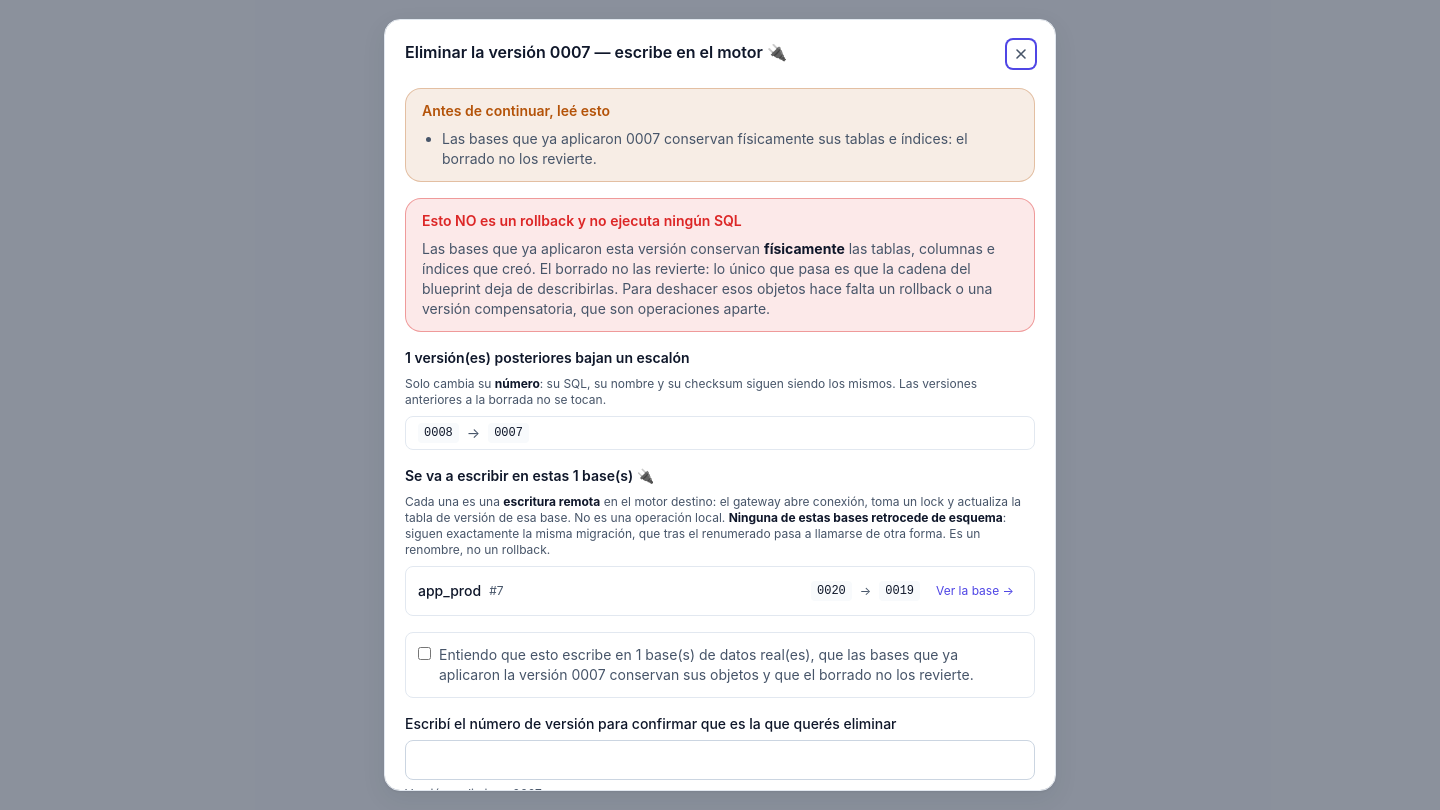
Test case: MigrationDeletePlanDialog › con confirmación exige las TRES condiciones: reconocer, reescribir y token vigente
The image size is (1440, 810).
Click the checkbox at [424, 654], box [418,647,431,660]
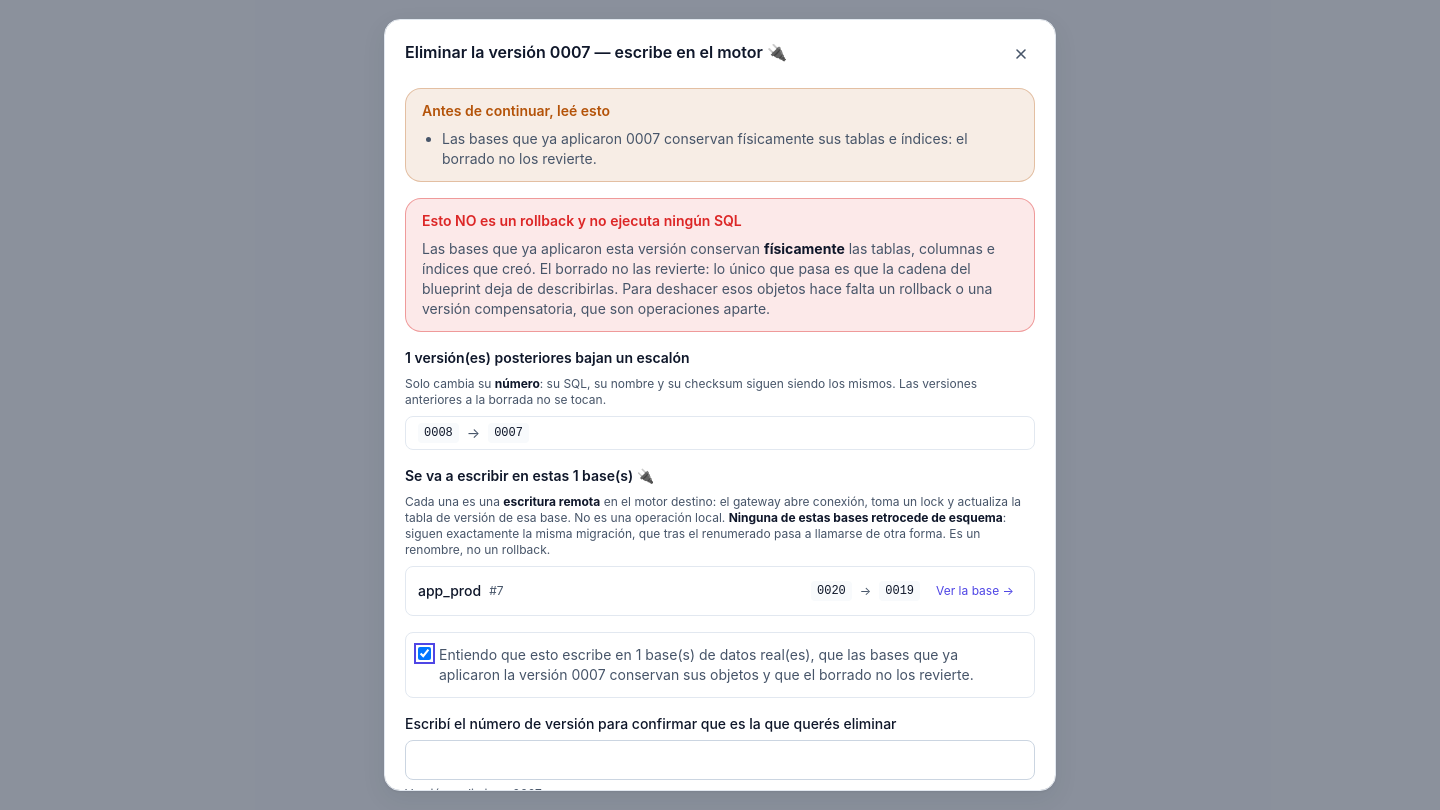
Click the checkbox at [424, 654], box [418,647,431,660]
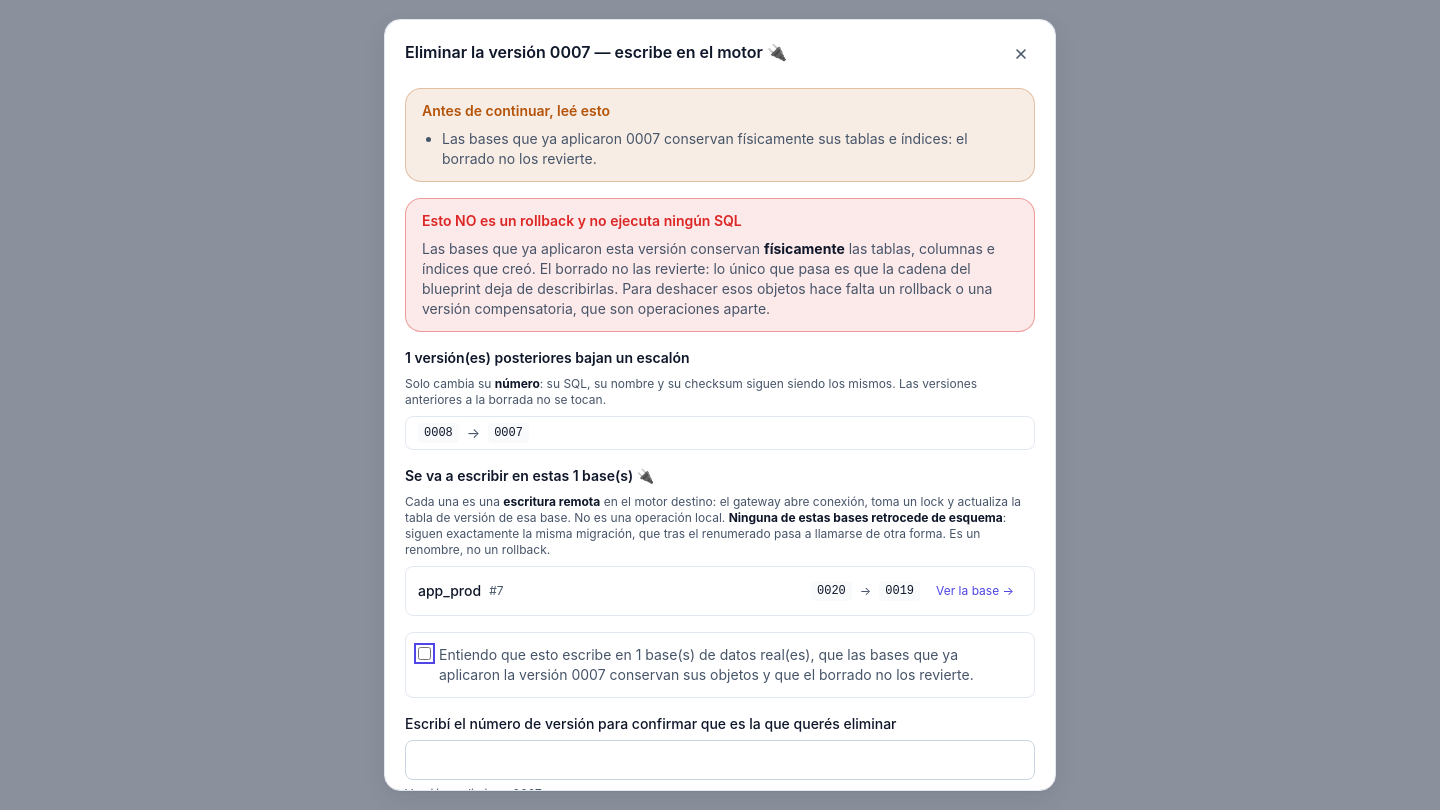
Type "0008" into the field labelled "Escribí el número de versión" at [720, 760], box [405,740,1035,780]
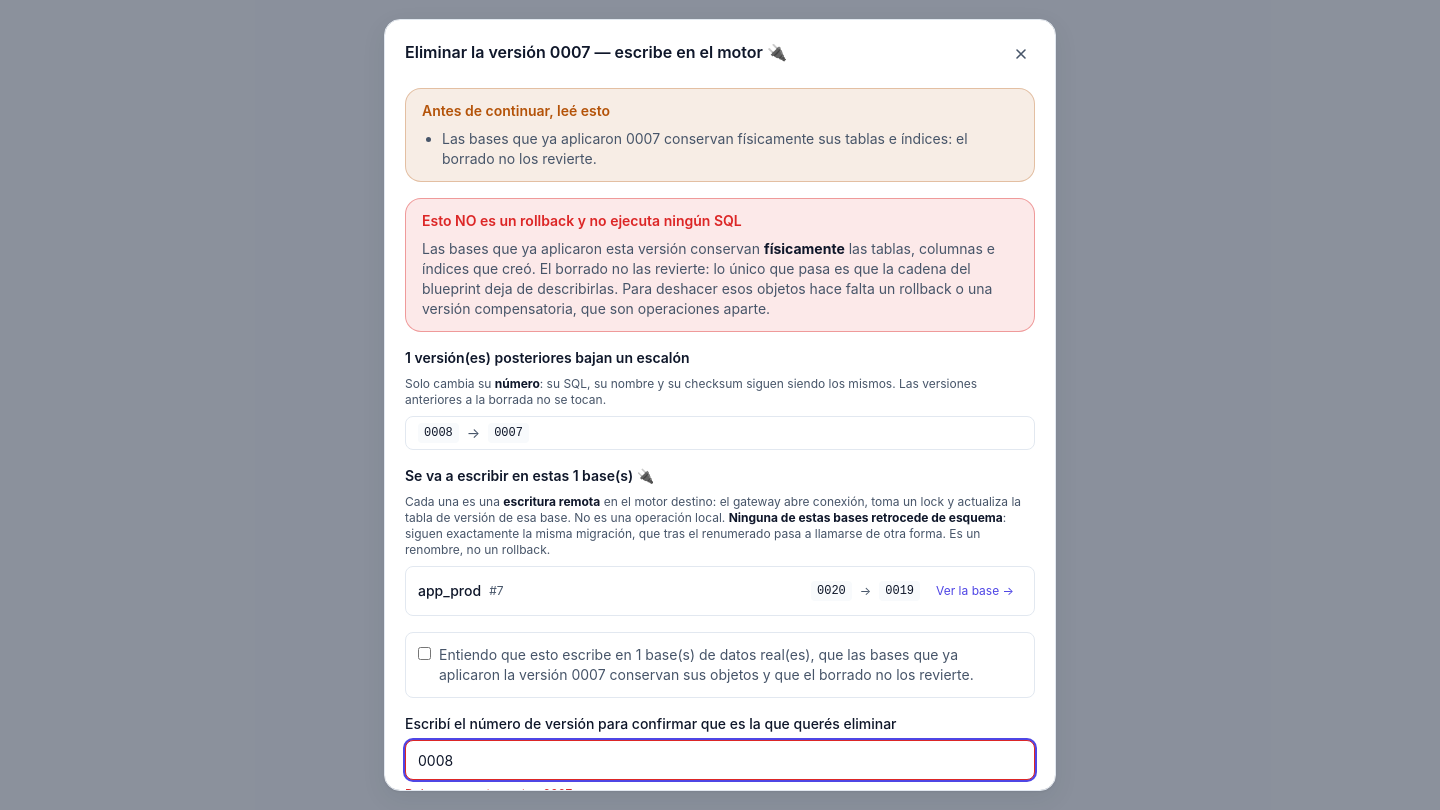
Clear the field labelled "Escribí el número de versión" at [720, 760], box [405,740,1035,780]
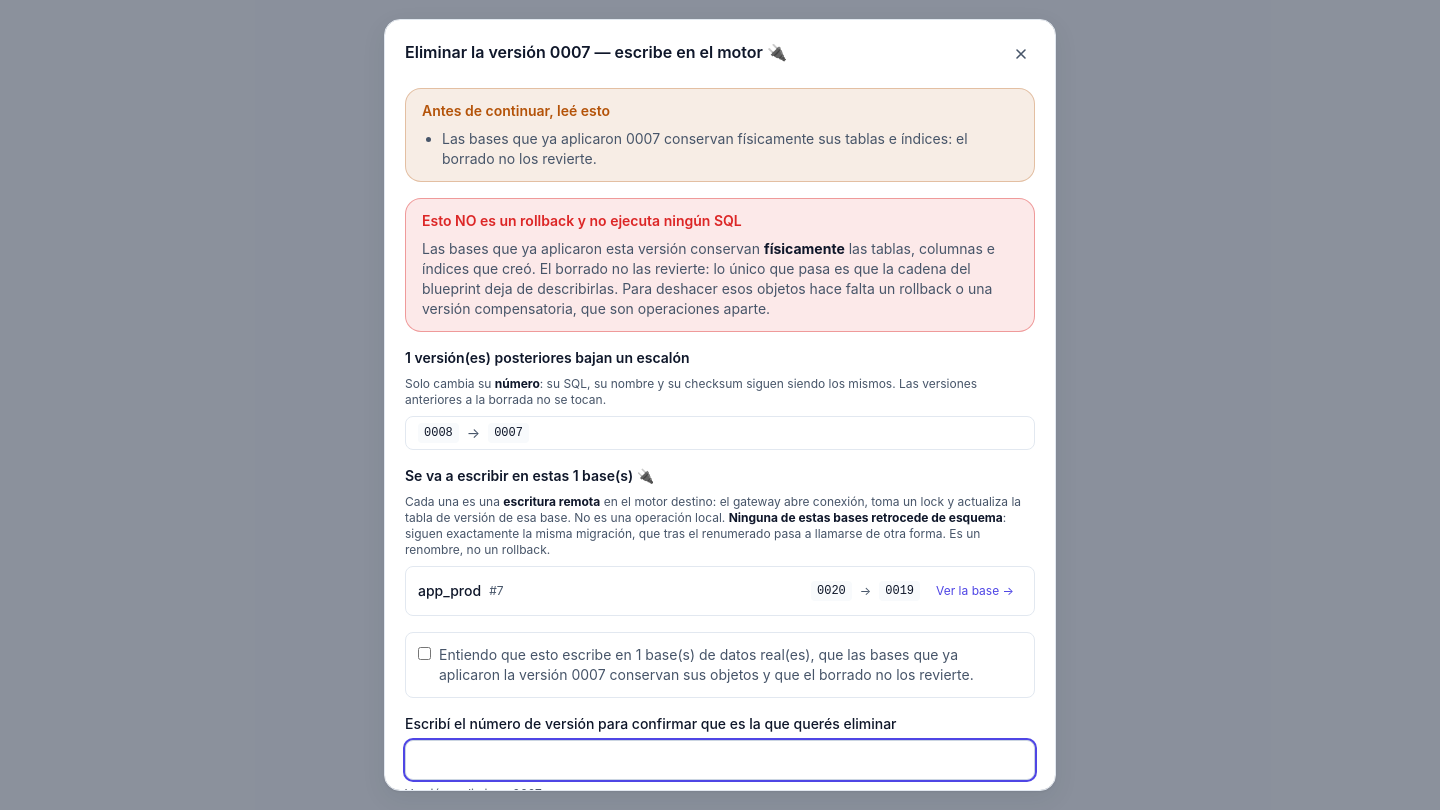
Click the checkbox at [424, 654], box [418,647,431,660]
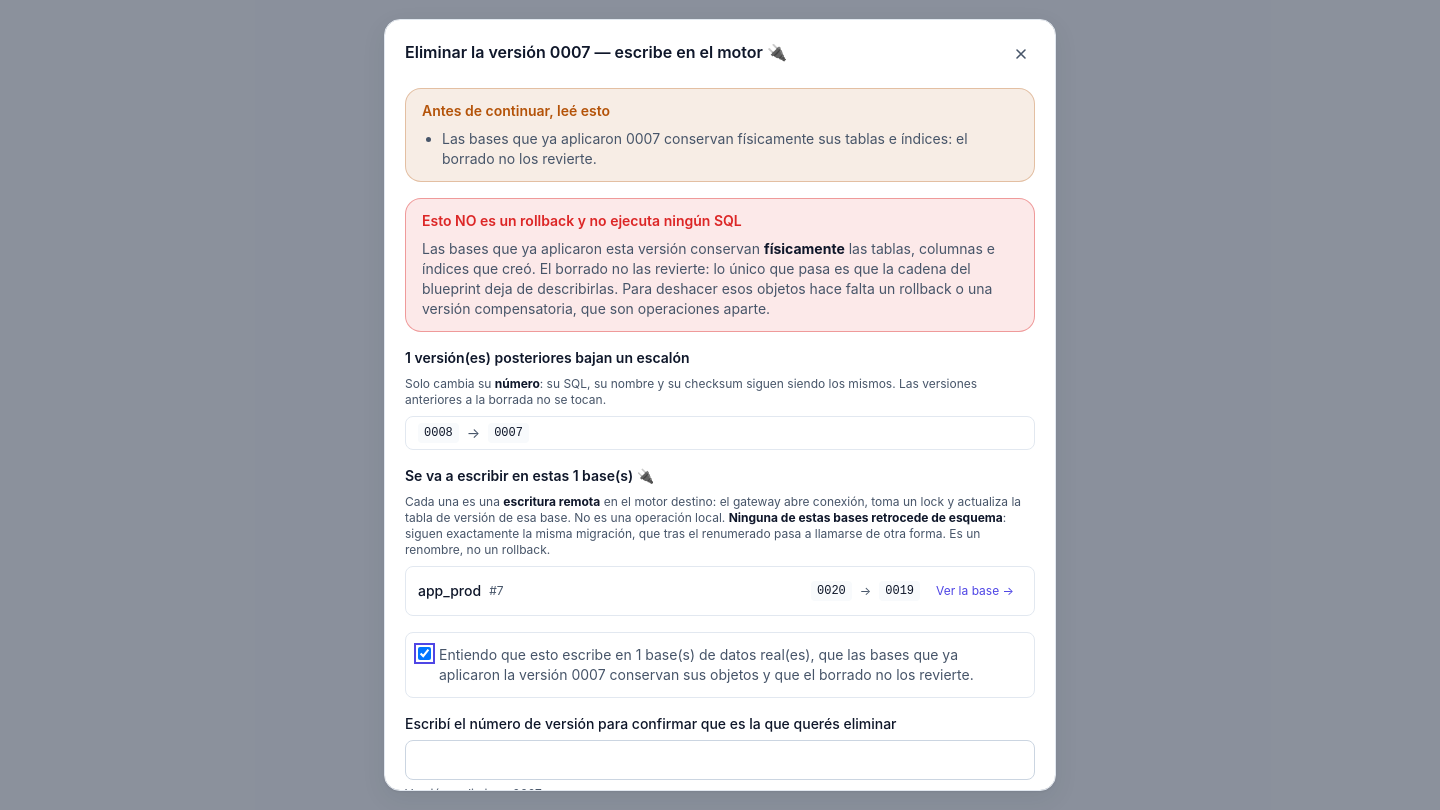
Type "0007" into the field labelled "Escribí el número de versión" at [720, 760], box [405,740,1035,780]
(page scrolled)
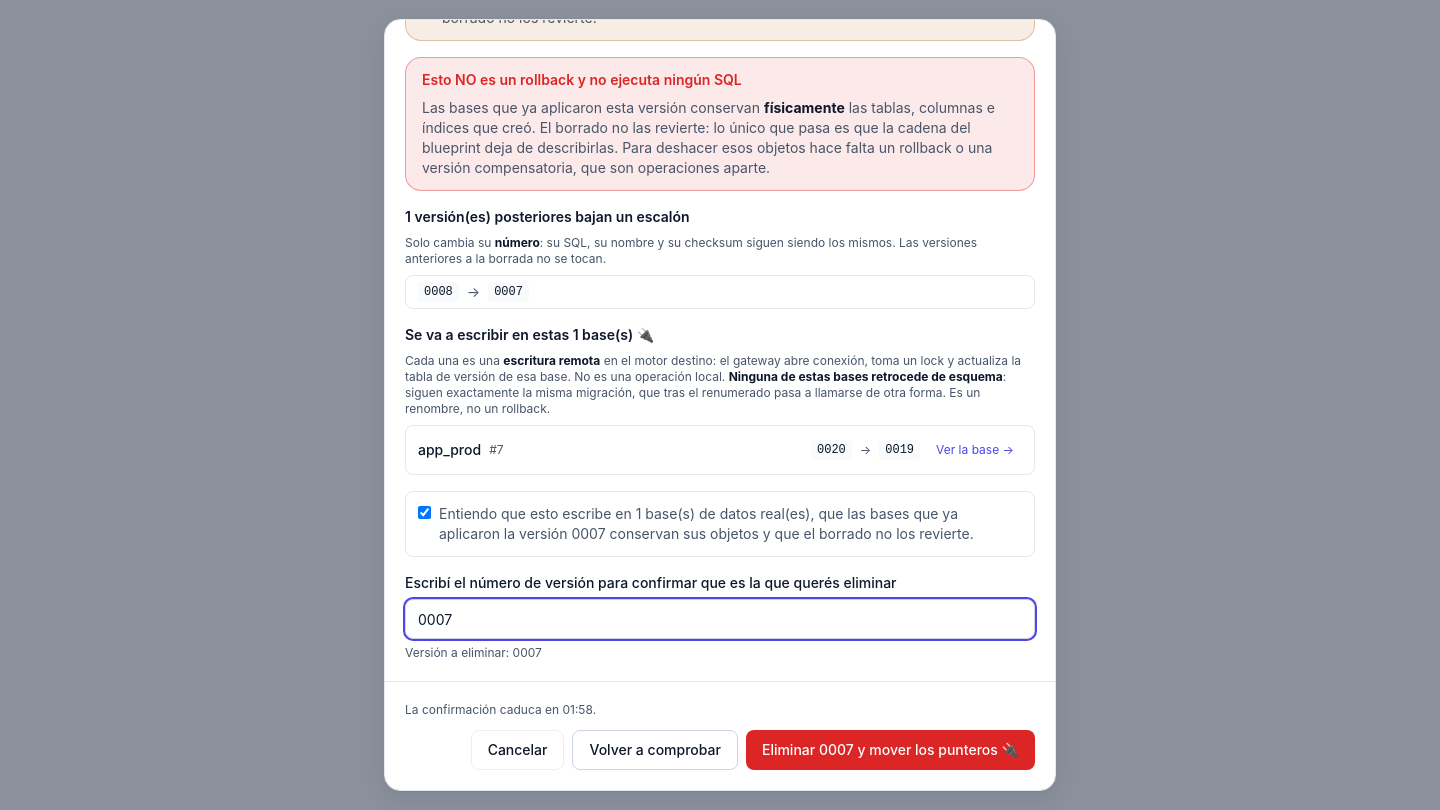
expect the button "Eliminar 0007 y mover los punteros 🔌" is enabled: met, box [746,730,1035,770]
